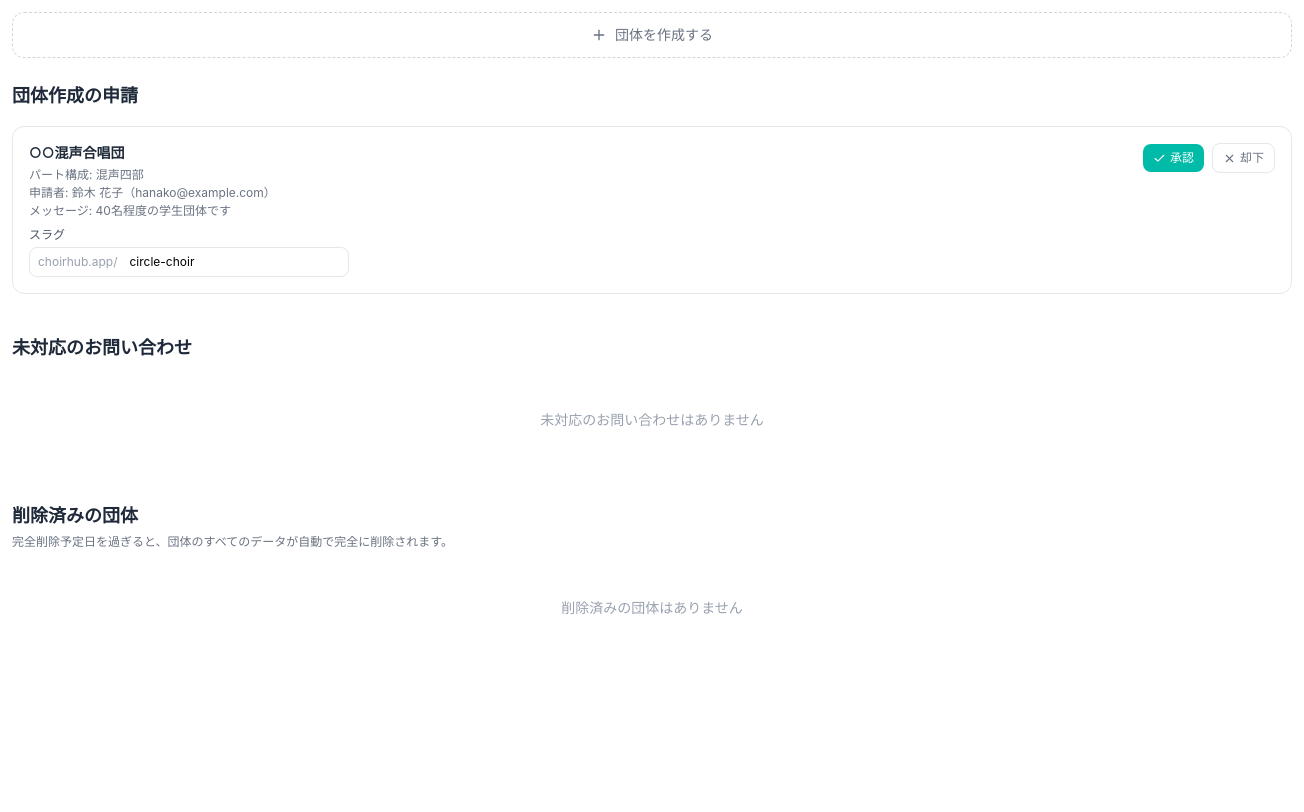
Test case: AdminPage（承認・却下） › 承認が400（スラグ形式不正・予約語）で失敗した場合はサーバーのメッセージを表示する
Check: the text "○○混声合唱団" is shown, box [29,144,125,161]
Click the button labelled "承認": x=1174, y=158 [1143,144,1204,172]
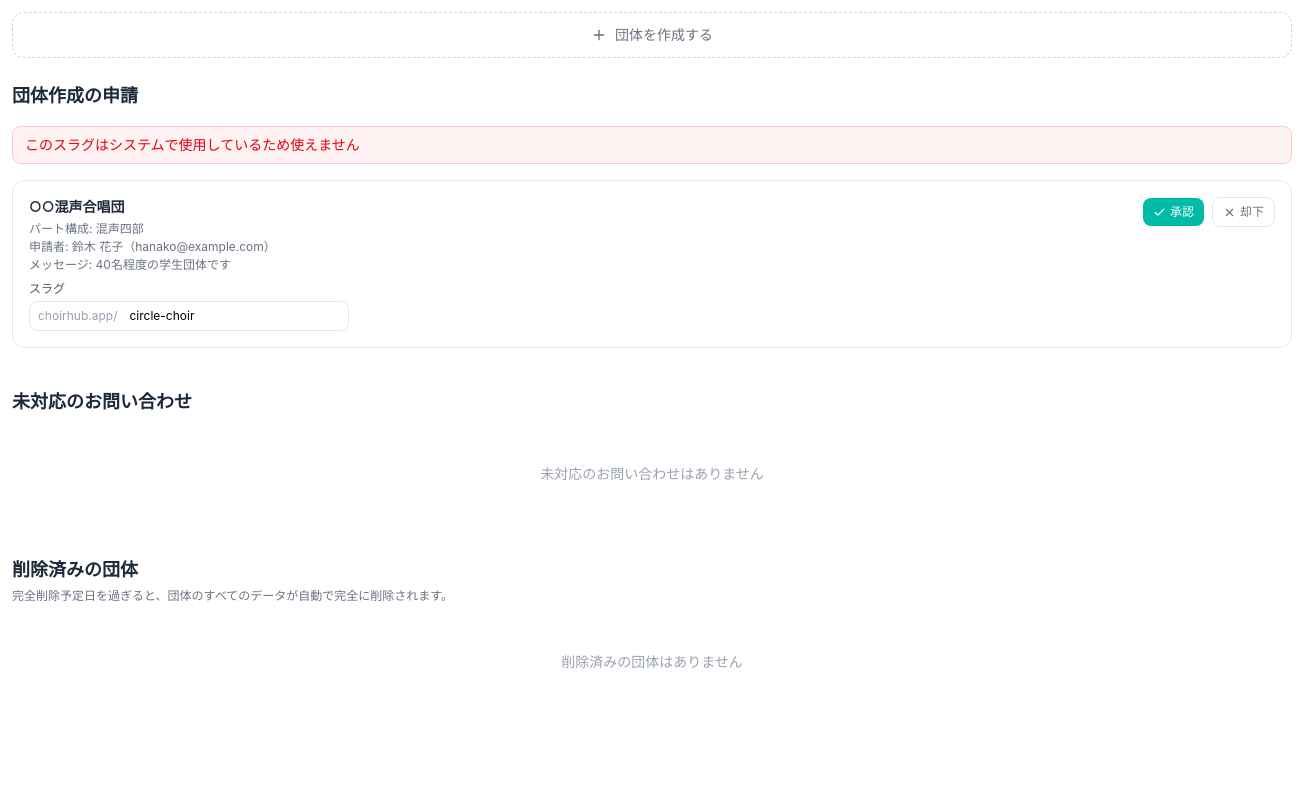
Check: the text "このスラグはシステムで使用しているため使えません" is shown, box [12,126,1292,164]
